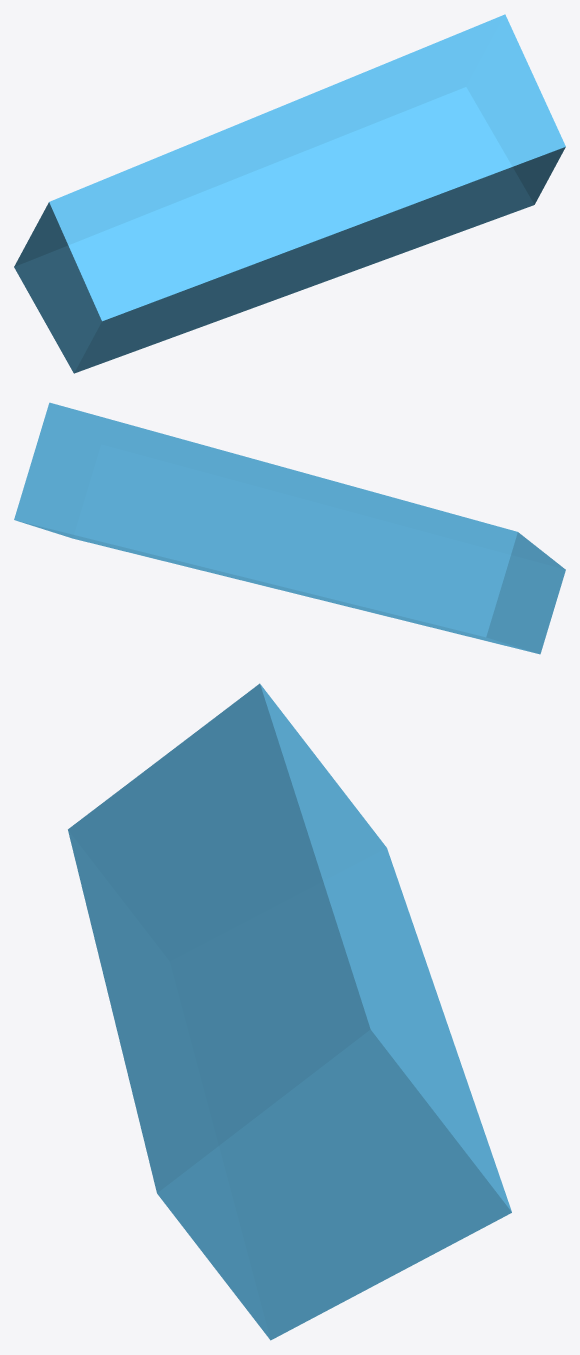
File: Event_421364160_HErechit_28.fbx
3 renders of one model, top to bottom at view 1: azimuth 30°, elevation 25°; view 2: azimuth 150°, elevation 25°; view 3: azimuth 270°, elevation 25°, orthographic. The views are drawn at different scales.
Visible parts, largest first — view 1: Model; view 2: Model; view 3: Model.
Boxes of the visible parts, <box> form: Model: <box>14,14,565,373</box>; Model: <box>14,402,565,654</box>; Model: <box>68,683,511,1340</box>.
Size of the model in its own units: 1.16 by 0.4544 by 0.505.
